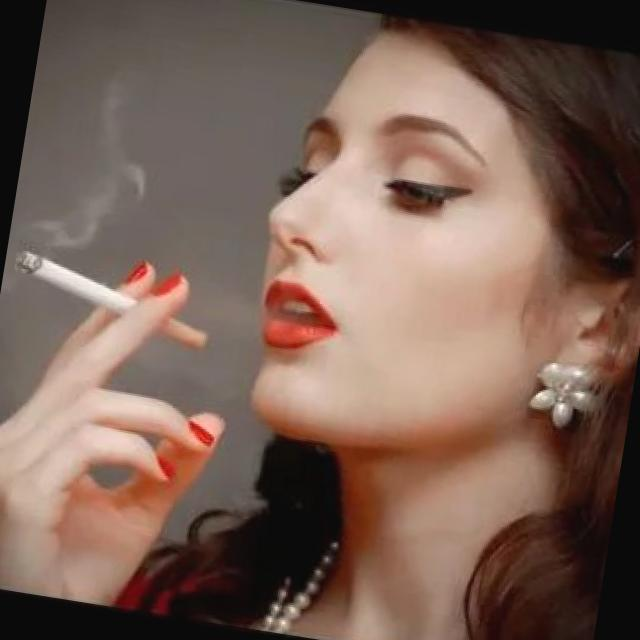cigarette: (0, 246, 217, 358)
